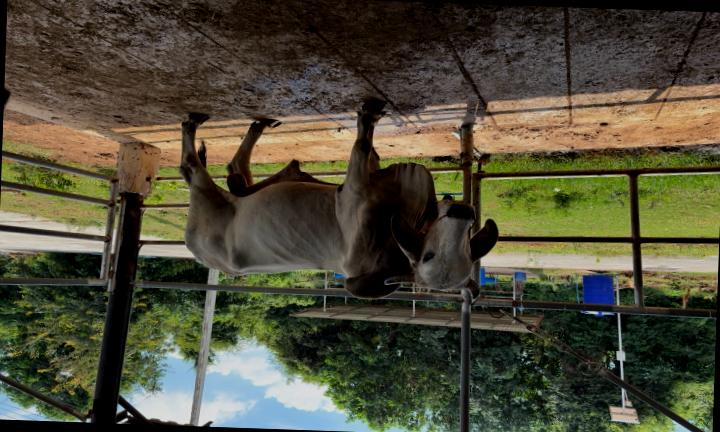Brahman: (181, 102, 498, 299)
